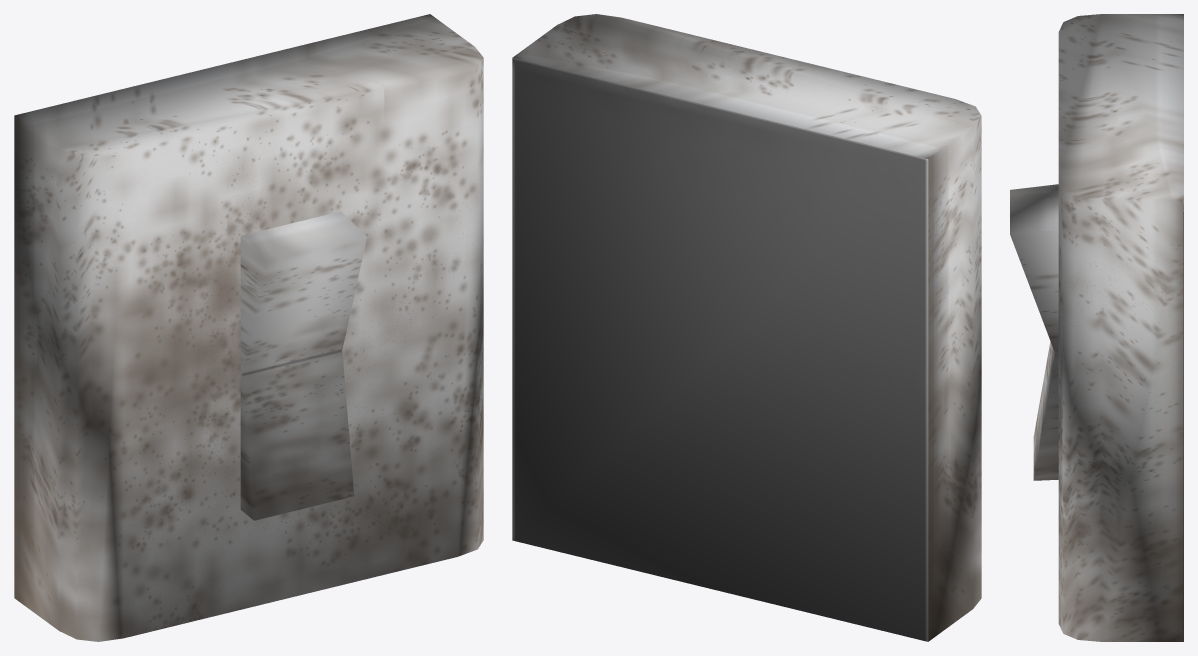
The model's file is Flipswitch.fbx.
3 renders of one model, left to right at view 1: azimuth 30°, elevation 25°; view 2: azimuth 150°, elevation 25°; view 3: azimuth 270°, elevation 25°, orthographic. The views are drawn at different scales.
Parts seen in each view (by area): view 1: Flipswitch; view 2: Flipswitch; view 3: Flipswitch.
Boxes of the visible parts, x1,y1,x2,y2 form: Flipswitch: (14,14,483,641); Flipswitch: (512,14,981,641); Flipswitch: (1010,14,1183,641).
Bounding box in the file's own units: 6.32 × 7.01 × 2.5.
